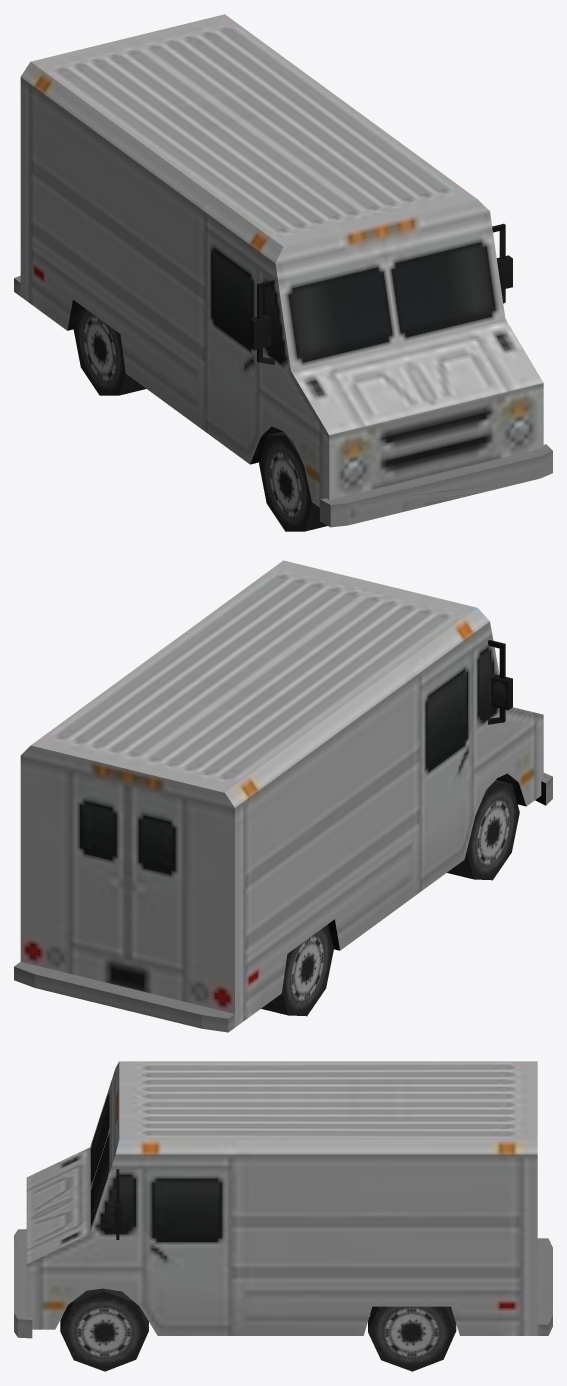
Rendered from stepvan.glb.
3 renders of one model, top to bottom at view 1: azimuth 30°, elevation 25°; view 2: azimuth 150°, elevation 25°; view 3: azimuth 270°, elevation 25°, orthographic. The views are drawn at different scales.
Visible parts, largest first — view 1: Car8; view 2: Car8; view 3: Car8.
Boxes of the visible parts, x1,y1,x2,y2 form: Car8: (14,14,552,531); Car8: (14,560,552,1032); Car8: (14,1061,552,1371).
Size of the model in its own units: 3.17 by 3.23 by 6.89.
1 material, 1 textured.
